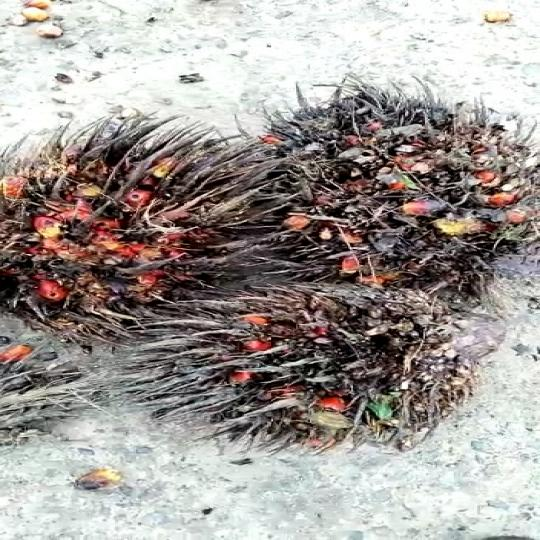terlalu masak: (221, 90, 532, 298), (135, 284, 475, 450), (0, 128, 286, 318)
